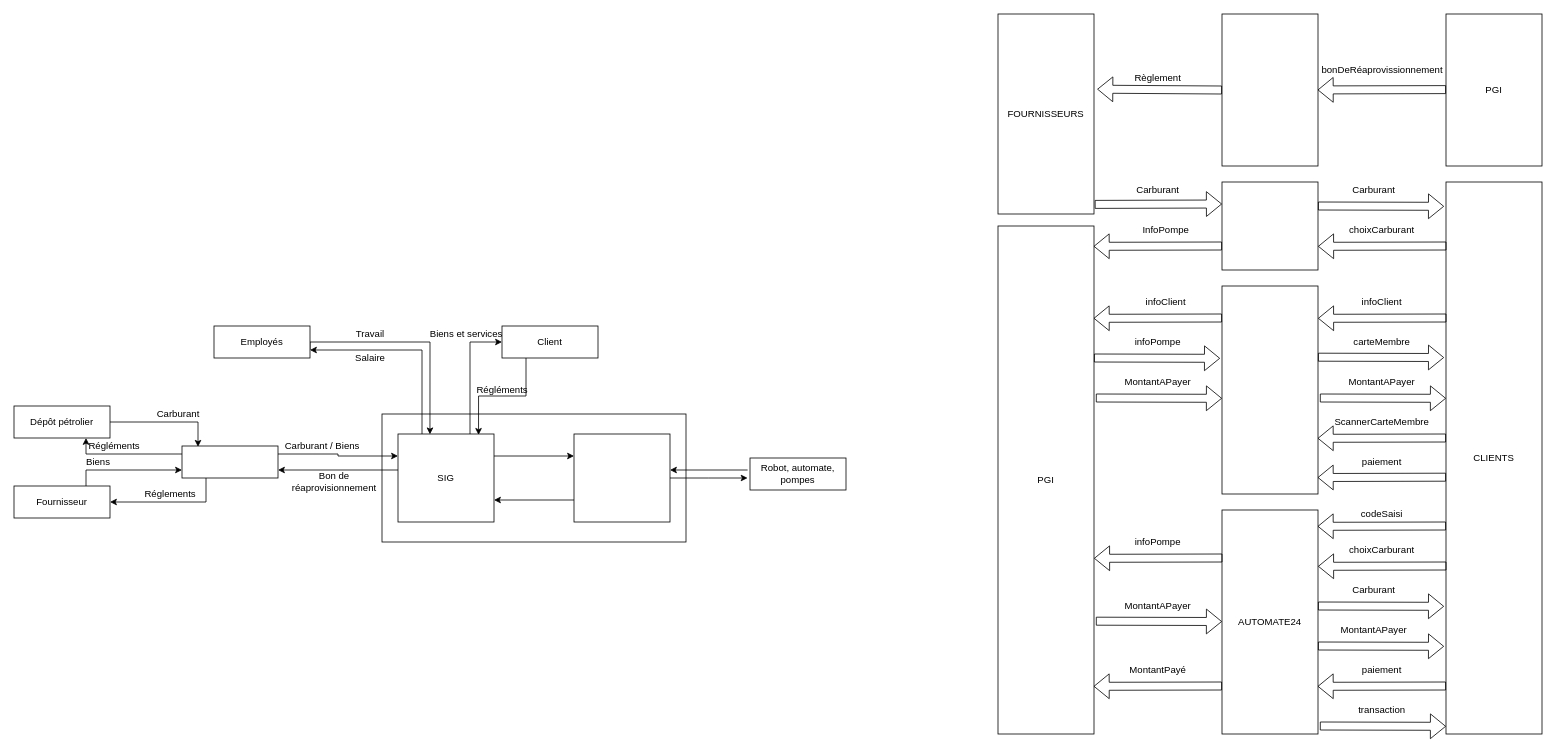
Image size: 1556x753. Some labels were removed from this diagram. The box of each missing label's shape, as (x1, y1, x2, y2) in pixels:
DIRECTION REGIONALE: (1221, 13, 1318, 166)
Direction régionale: (181, 445, 278, 478)
EMPLOYE: (1221, 285, 1318, 494)
POMPES: (1221, 181, 1318, 270)
SIT: (573, 433, 670, 522)
Station: (381, 413, 686, 542)
